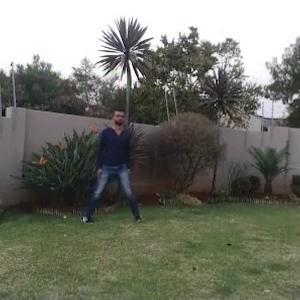follow: (95, 98, 132, 223)
